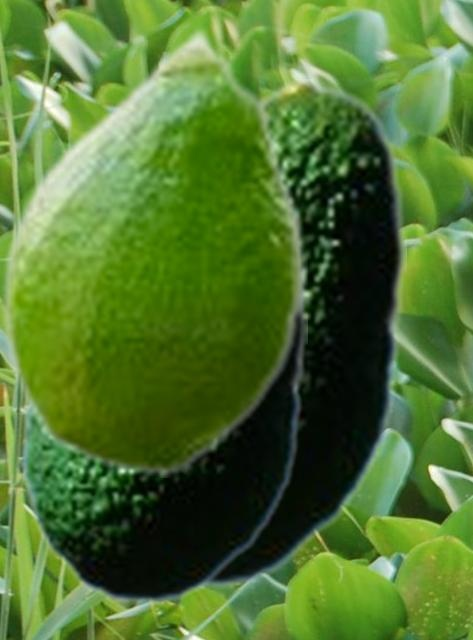avocado: (0, 24, 306, 476), (205, 79, 405, 589), (19, 302, 306, 604)
